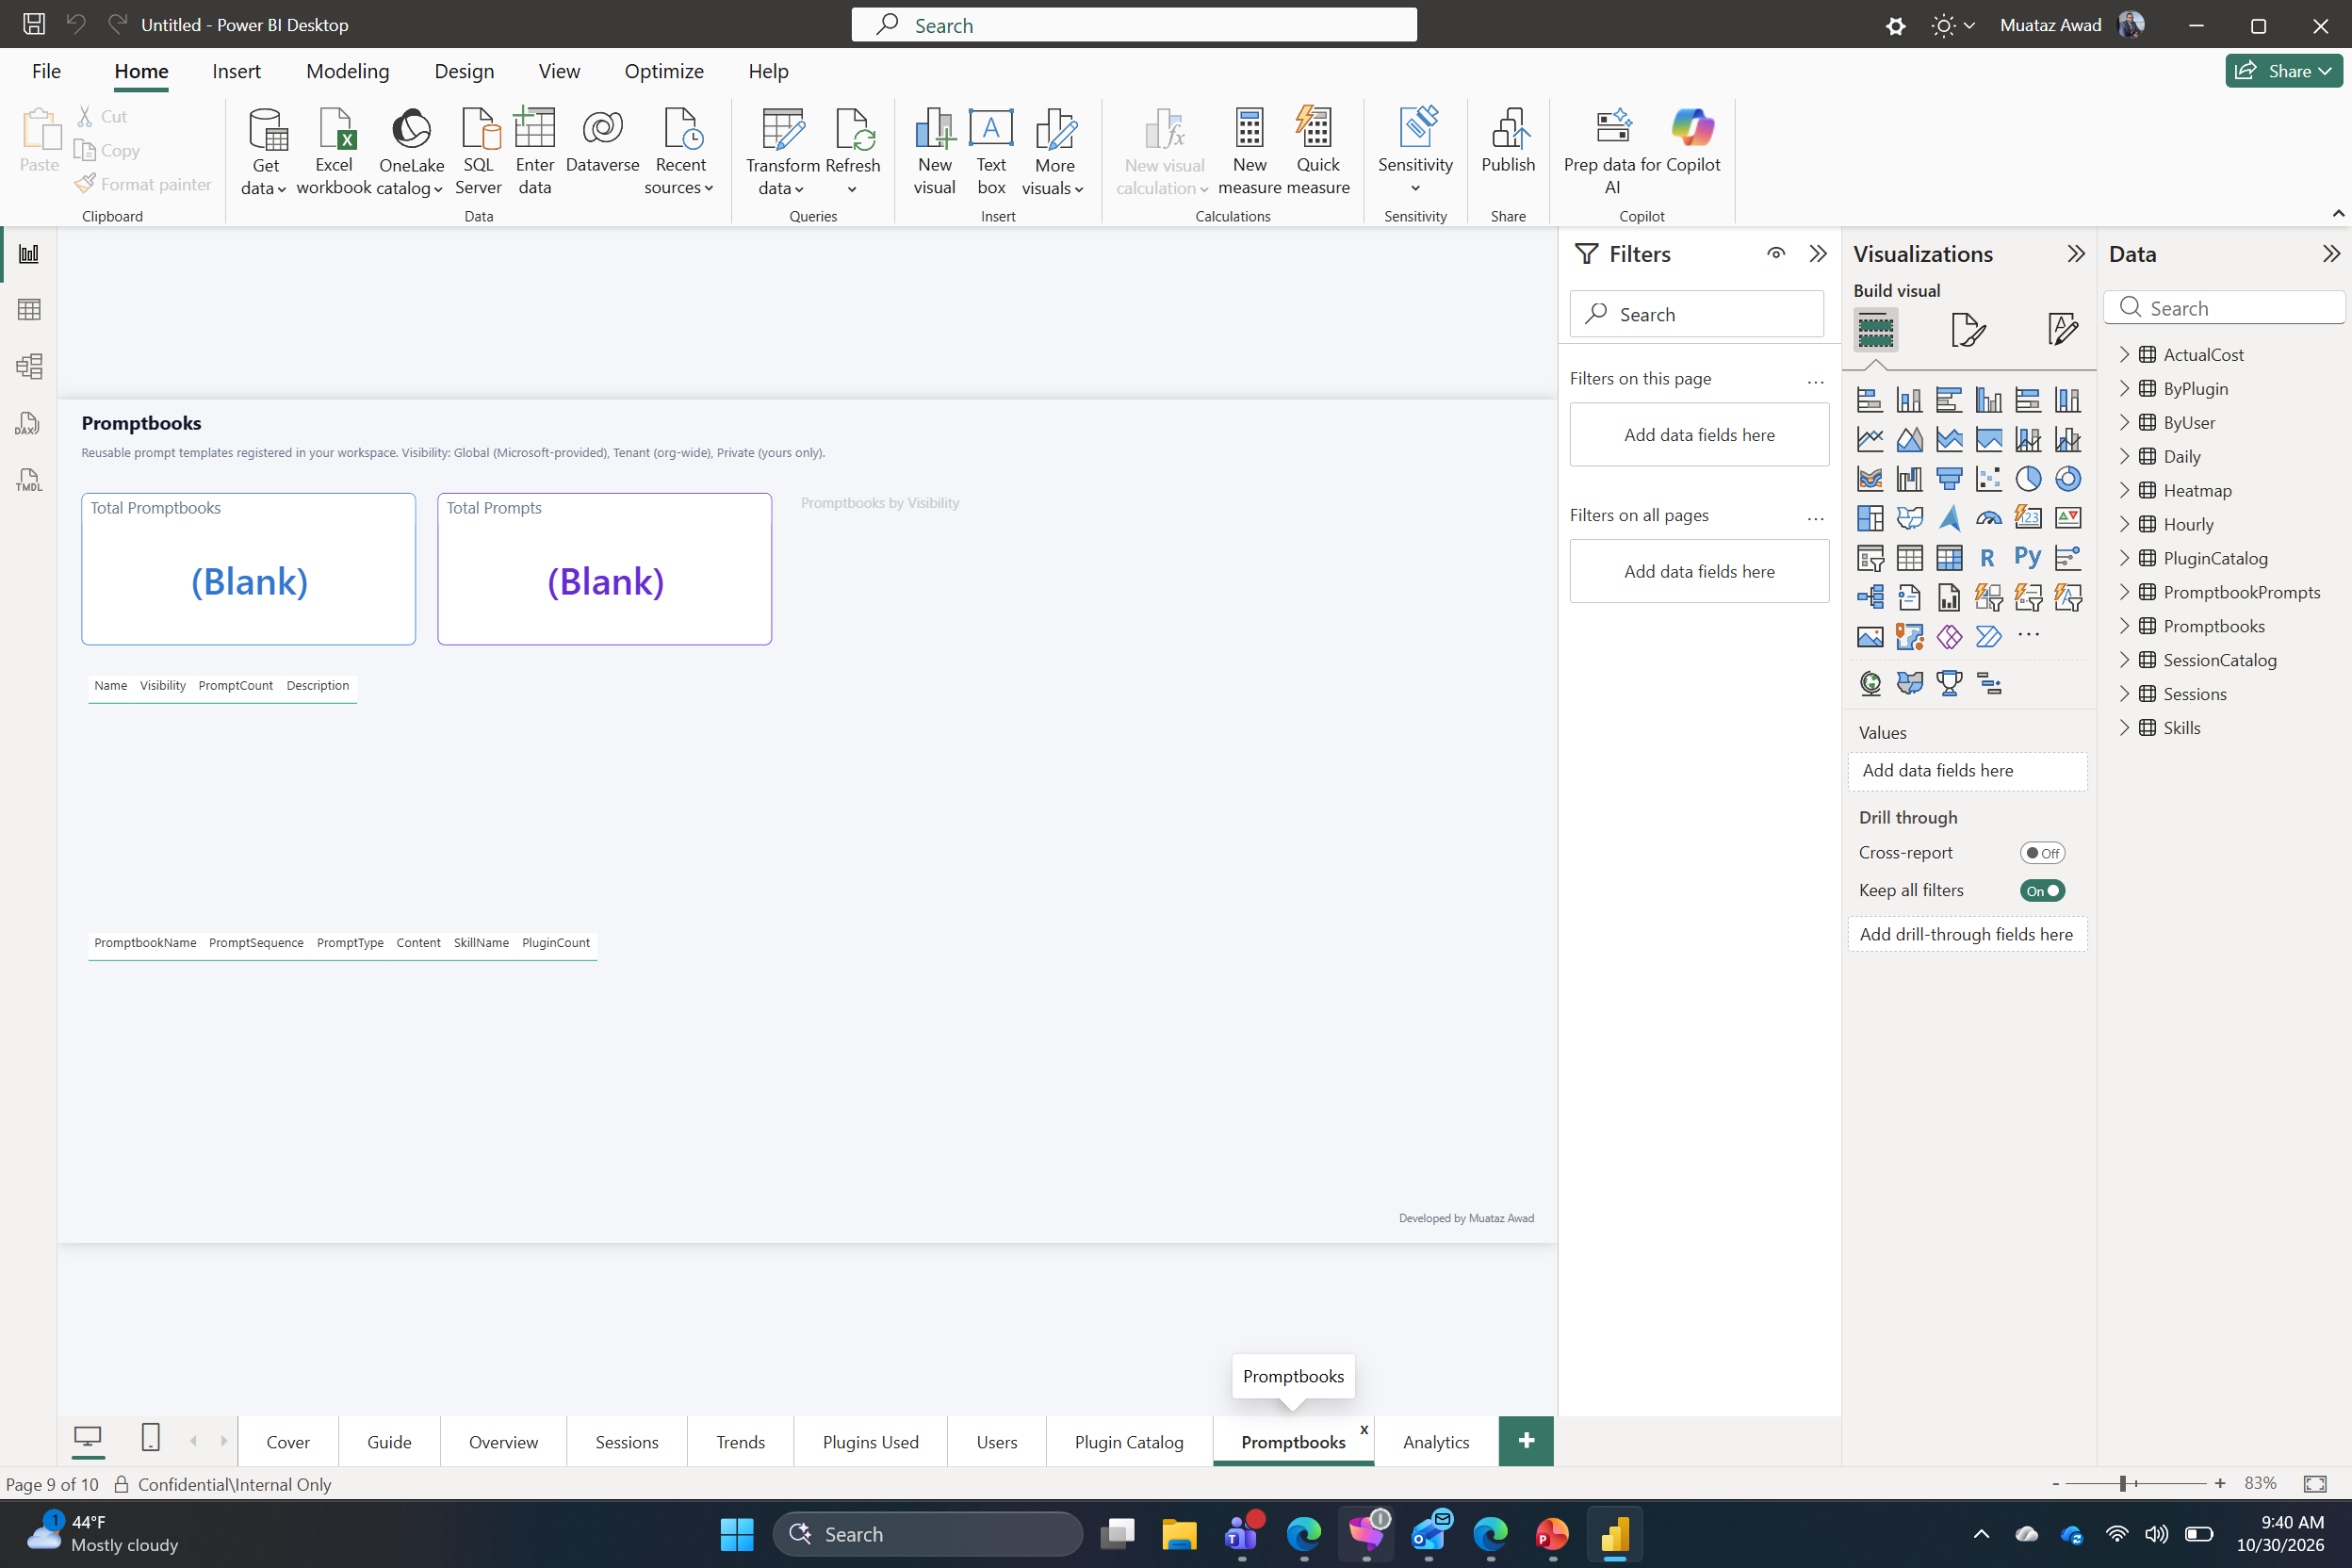

Layout of this report page (visuals, bound fields, positions):
{"tool":"powerbi","page":{"name":"Promptbooks","canvas":[1280,720],"ordinal":8},"visuals":[{"type":"textbox","box":[20,8,1240,32],"z":0},{"type":"textbox","box":[20,34,1240,24],"z":0},{"type":"card","title":"Total Promptbooks","fields":{"Values":["Promptbooks.Total Promptbooks"]},"box":[20,80,285,130],"z":0},{"type":"card","title":"Total Prompts","fields":{"Values":["Promptbooks.Total Prompts"]},"box":[325,80,285,130],"z":0},{"type":"donutChart","title":"Promptbooks by Visibility","fields":{"Category":["Promptbooks.Visibility"],"Y":["Promptbooks.Total Promptbooks"]},"box":[630,80,590,350],"z":0},{"type":"tableEx","title":"Available Promptbooks","fields":{"Values":["Promptbooks.Name","Promptbooks.Visibility","Promptbooks.PromptCount","Promptbooks.Description"]},"box":[20,230,590,200],"z":0},{"type":"tableEx","title":"Individual Prompts in Promptbooks","fields":{"Values":["PromptbookPrompts.PromptbookName","PromptbookPrompts.PromptSequence","PromptbookPrompts.PromptType","PromptbookPrompts.Content","PromptbookPrompts.SkillName","PromptbookPrompts.PluginCount"]},"box":[20,450,1200,270],"z":0},{"type":"textbox","box":[1060,686,200,22],"z":0}]}

Visuals, with their boxes on the page's 1280x720 design canvas (x1, y1, x2, y2). These are canvas units, not pixel positions in the 2352x1568 screenshot, which may show the page scaled, cropped or inside an application window:
textbox: bbox=(20, 8, 1260, 40)
textbox: bbox=(20, 34, 1260, 58)
"Total Promptbooks" card: bbox=(20, 80, 305, 210)
"Total Prompts" card: bbox=(325, 80, 610, 210)
"Promptbooks by Visibility" donutChart: bbox=(630, 80, 1220, 430)
"Available Promptbooks" tableEx: bbox=(20, 230, 610, 430)
"Individual Prompts in Promptbooks" tableEx: bbox=(20, 450, 1220, 720)
textbox: bbox=(1060, 686, 1260, 708)
